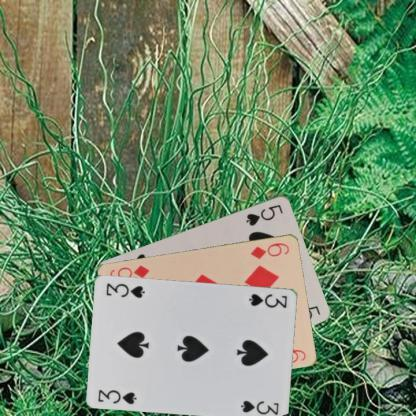3s: (246, 290, 288, 310), (96, 386, 138, 405)
5s: (244, 202, 284, 228)
6d: (248, 240, 290, 260)
